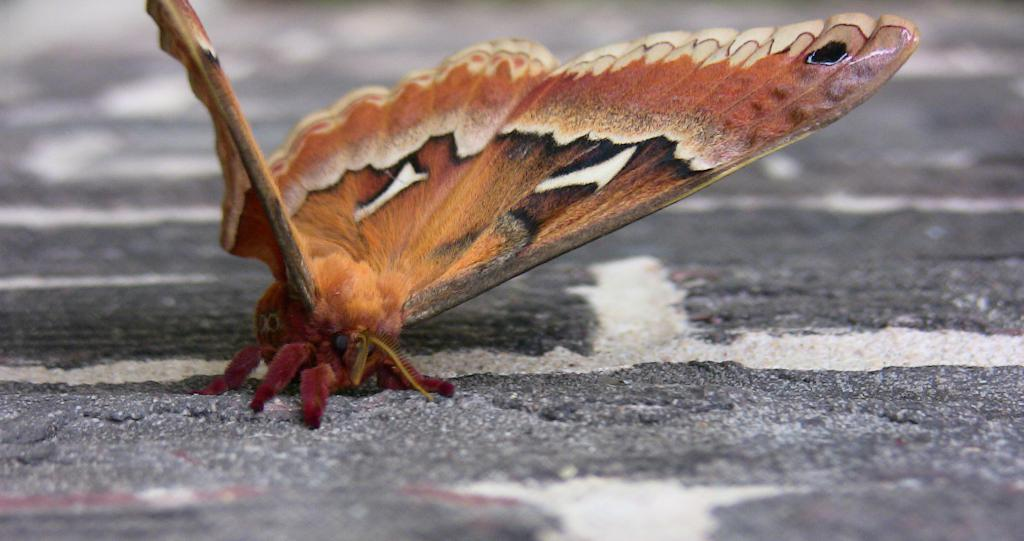Butterfly: (149, 1, 921, 427)
